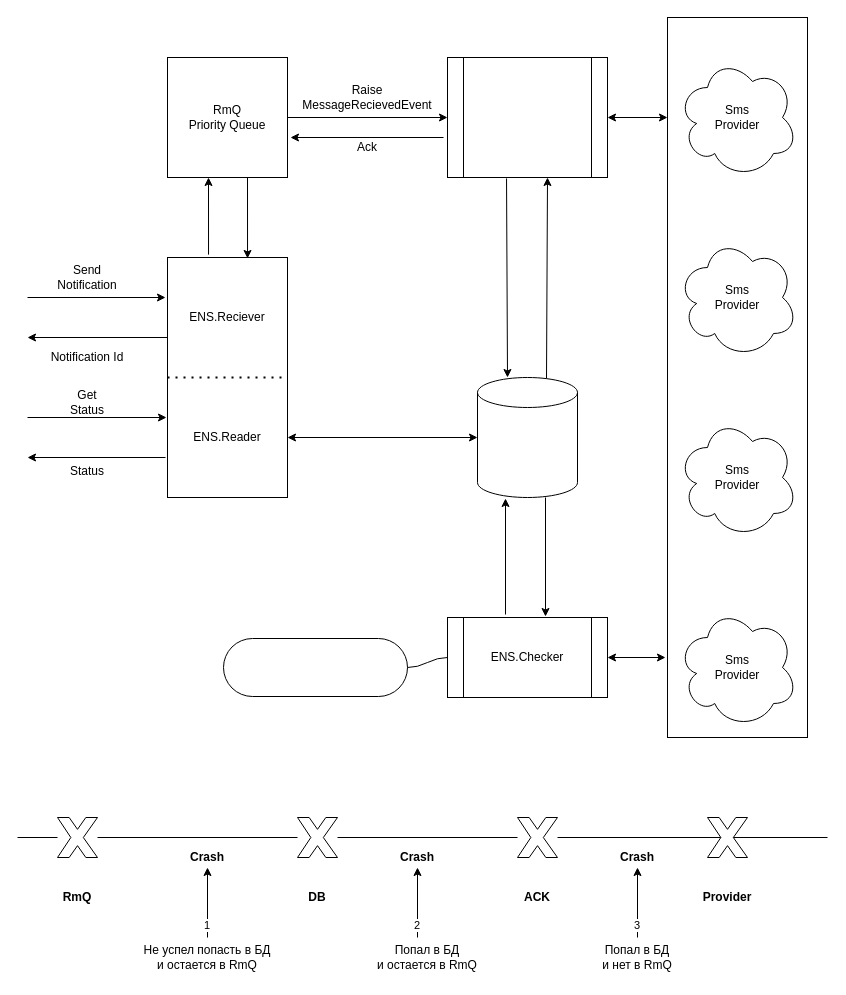
Image size: 846x995. Some labels were removed from this diagram. Here are the shapes that lost their labels. From the top down, the centre of each, then its label:
the point at 527,117: ENS.Handler
the point at 527,437: ENS.ContextDb
the point at 315,667: При Start собрать SMS для проверки статусов
